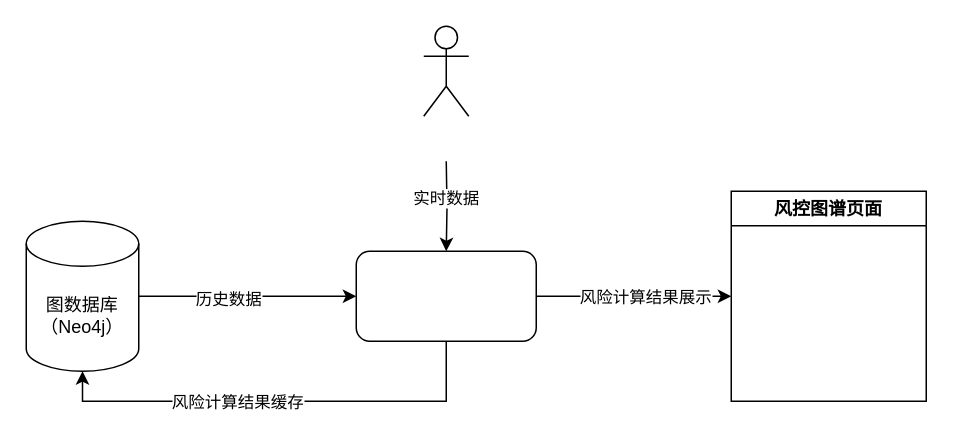
Some shapes in this 953 by 440 pixel diagram are drawn without their labels. The centre of each missing label's shape, as x and y in pixels:
用户: the point at 445,70
风控系统后端API: the point at 445,295
